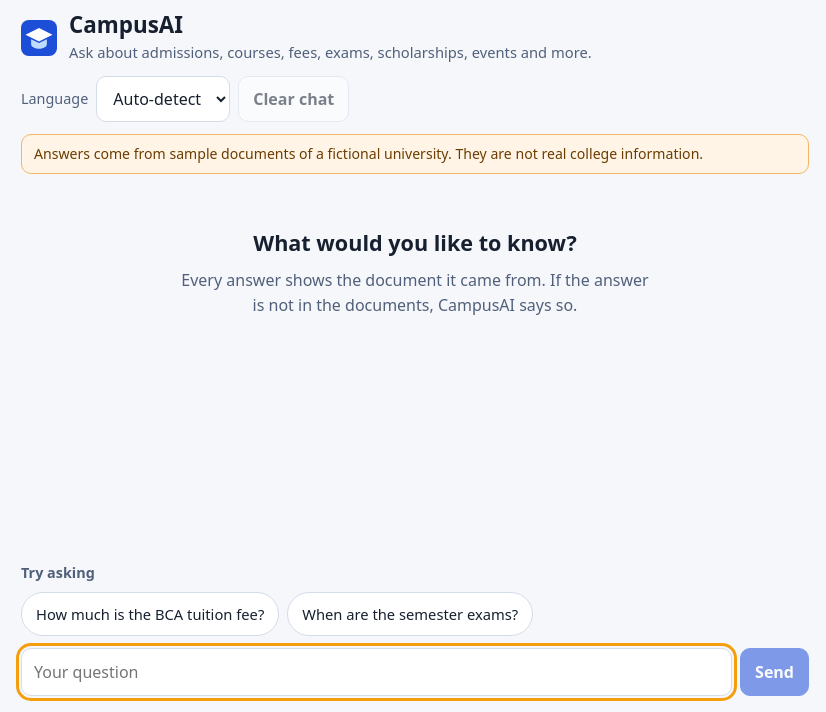
App › puts a suggested question in the input box
The width and height of the screenshot is (826, 712).
What coordinates should you click on to do the following:
click the button "When are the semester exams?"
I would click on:
 (410, 614)
Its box is [287,592,533,636].
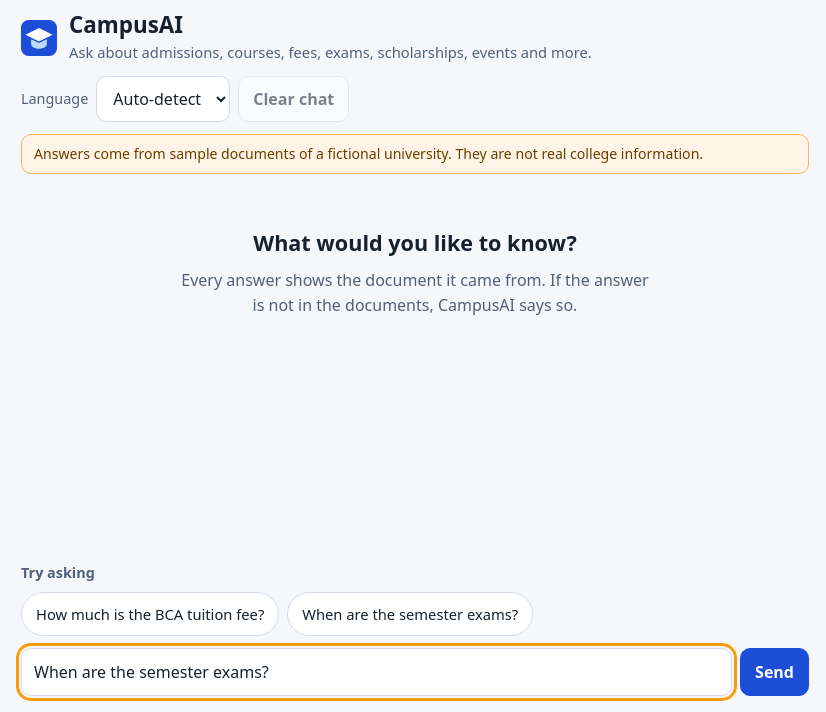
Check: the field named "Your question" holds "When are the semester exams?", box [21,648,732,696]
